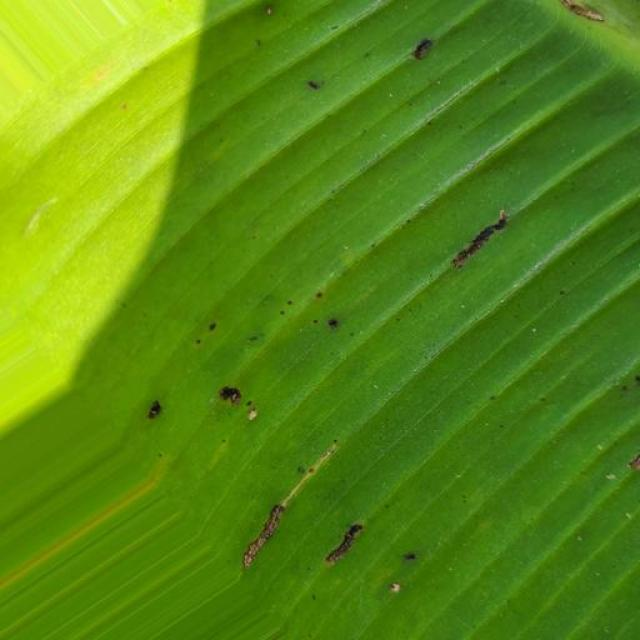Black_rot: (108, 11, 622, 631)
